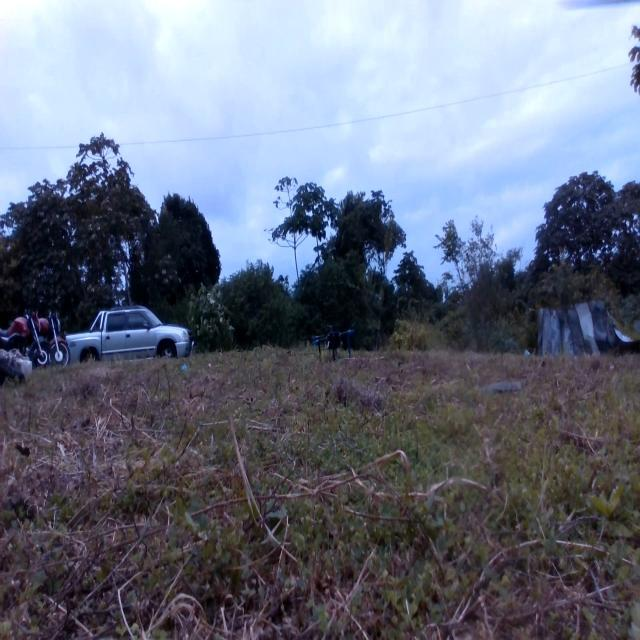-uav-: (309, 324, 362, 366)
